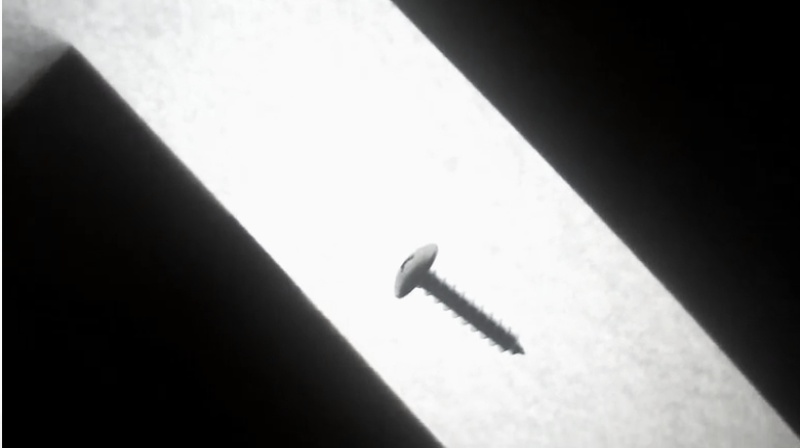S003: (388, 239, 530, 357)
